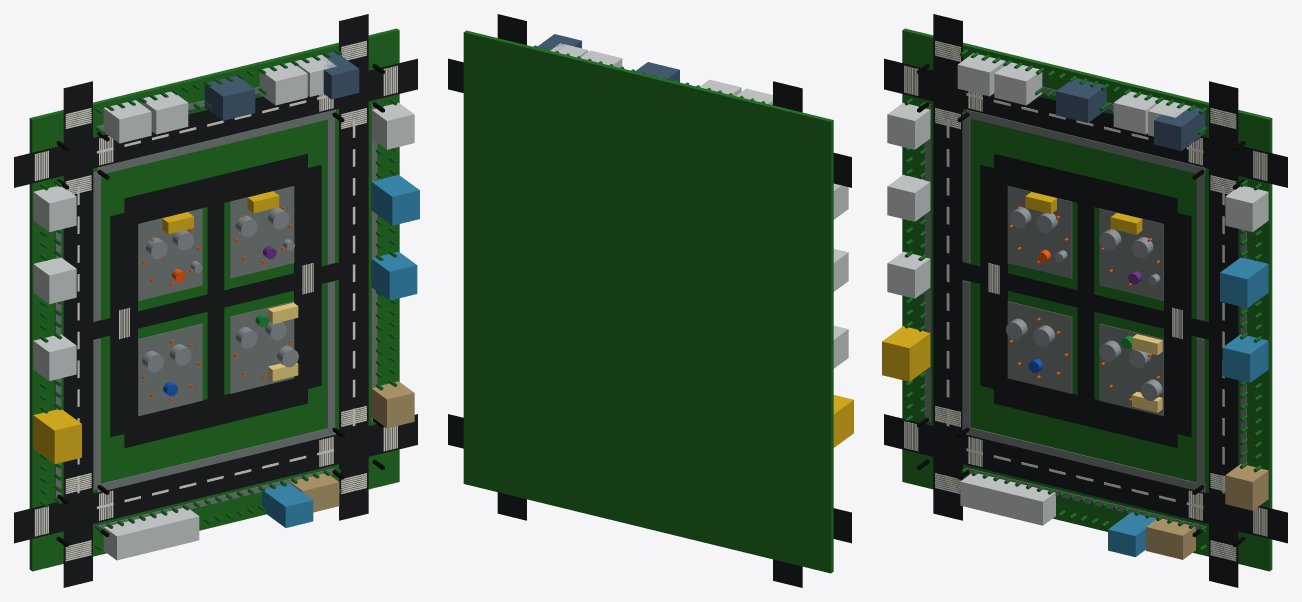
Rendered from sandbox.obj.
3 renders of one model, left to right at view 1: azimuth 30°, elevation 25°; view 2: azimuth 150°, elevation 25°; view 3: azimuth 330°, elevation 25°, orthographic.
Bounding box in the file's own units: 4.4 × 5.2 × 0.5.
